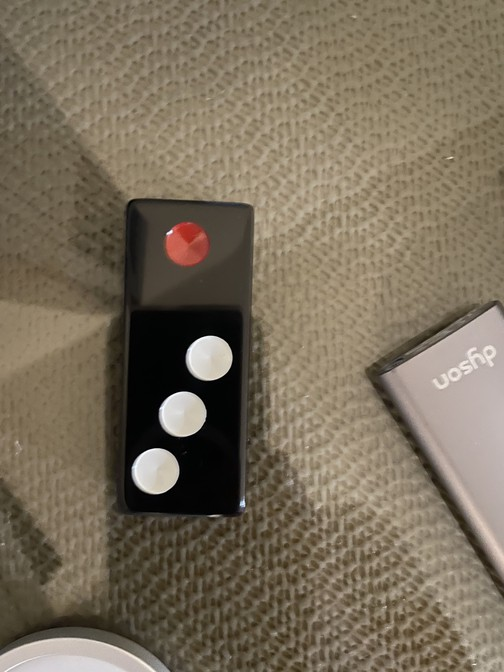goose: (123, 200, 253, 517)
